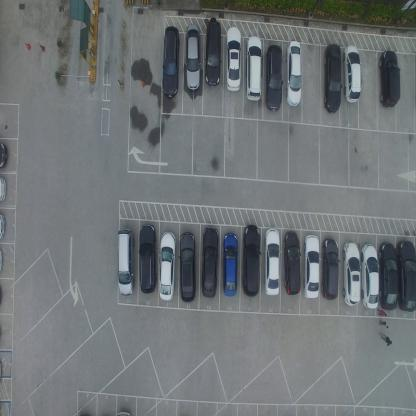car: (396, 238, 416, 312), (378, 242, 399, 312), (241, 224, 261, 297), (200, 226, 219, 299), (161, 26, 180, 98), (323, 42, 342, 114), (138, 222, 157, 294), (360, 242, 380, 310), (264, 43, 283, 113), (158, 231, 176, 302), (378, 50, 400, 108), (282, 230, 301, 296), (284, 39, 302, 108), (117, 228, 135, 297), (342, 242, 361, 307), (342, 44, 362, 105), (204, 16, 221, 87), (224, 24, 241, 94), (180, 230, 196, 304), (321, 237, 339, 301), (303, 233, 320, 300), (245, 34, 262, 101), (264, 228, 280, 297), (185, 24, 201, 90), (222, 231, 238, 297), (0, 138, 9, 171), (0, 173, 8, 203), (0, 209, 6, 242)
